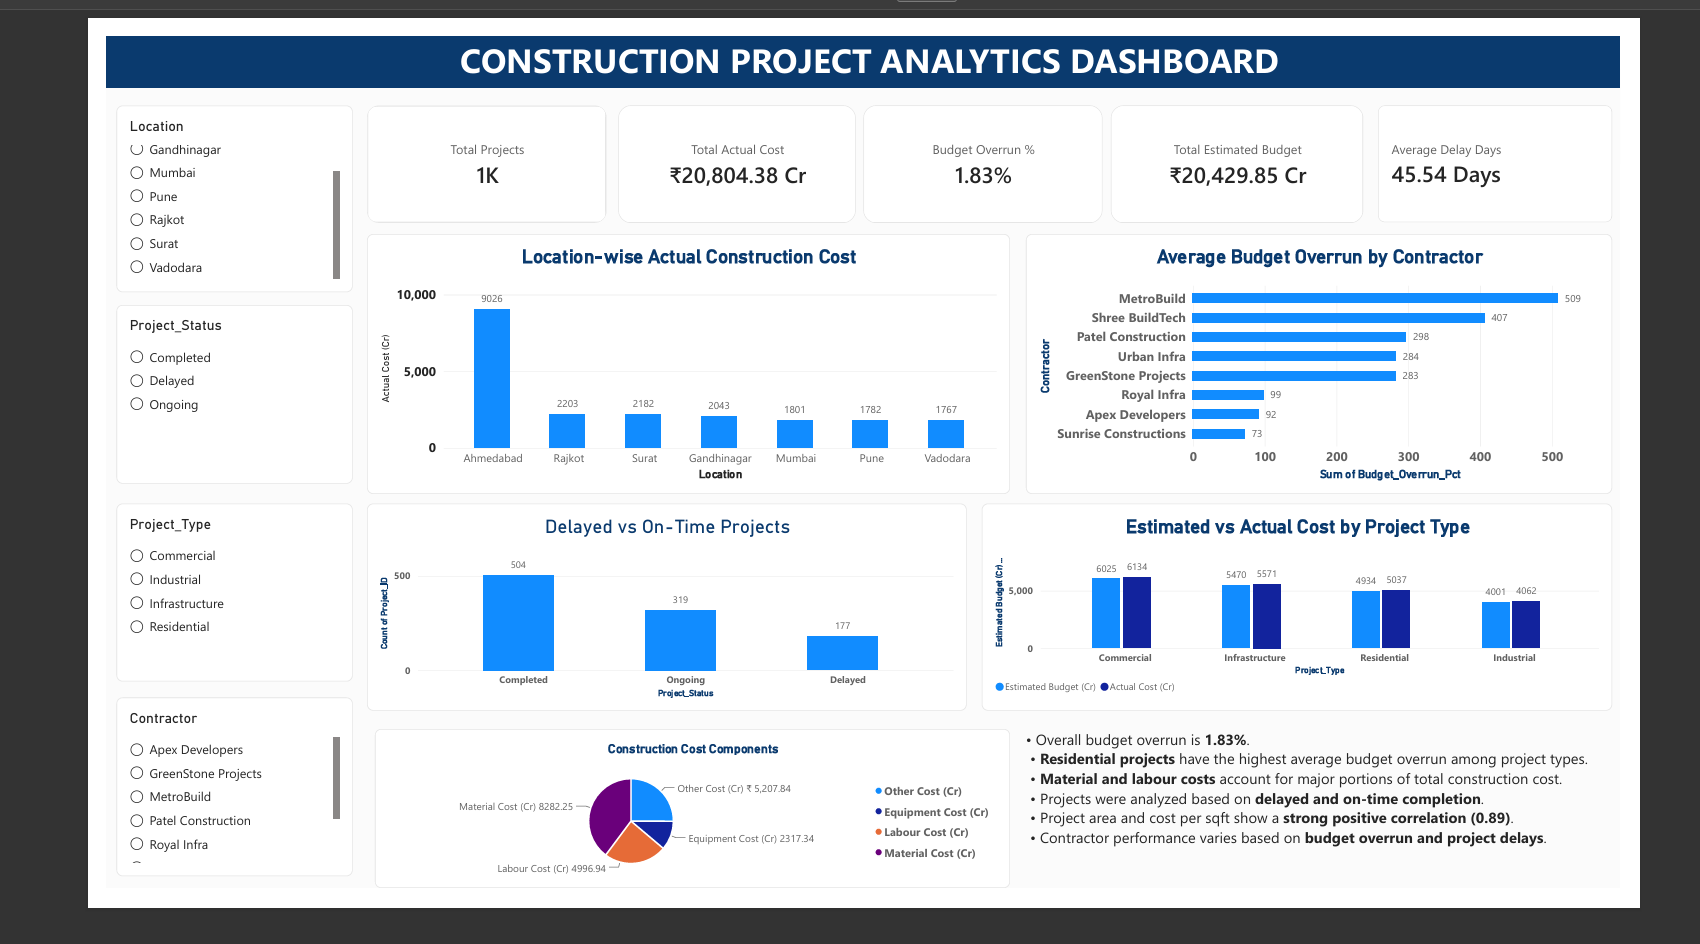

The dashboard page shown, as its layout file describes it:
{"tool":"powerbi","page":{"name":"Page 1","canvas":[1920,1080],"ordinal":0},"visuals":[{"type":"cardVisual","title":"Total Projects","fields":{"Data":["Construction_Project_Analytics.Total Projects"]},"box":[330,87.1,304.3,148.6],"z":0},{"type":"cardVisual","fields":{"Data":["Construction_Project_Analytics.Total Estimated Budget (Cr)"]},"box":[1274.3,87.1,320,148.6],"z":1000},{"type":"cardVisual","fields":{"Data":["Construction_Project_Analytics.Total Actual Cost"]},"box":[648.6,87.1,301.4,148.6],"z":2000},{"type":"cardVisual","fields":{"Data":["Construction_Project_Analytics.Budget Overrun %"]},"box":[960,87.1,302.9,148.6],"z":3000},{"type":"cardVisual","fields":{"Data":["Construction_Project_Analytics.Average Delay Days"]},"box":[1612.9,87.1,297.1,148.6],"z":4000},{"type":"clusteredColumnChart","title":"Location-wise Actual Construction Cost","fields":{"Category":["Construction_Project_Analytics.Location"],"Y":["Construction_Project_Analytics.Actual Cost (Cr)"]},"box":[330,250,815.7,330],"z":5000},{"type":"clusteredColumnChart","title":"Delayed vs On-Time Projects","fields":{"Category":["Construction_Project_Analytics.Project_Status"],"Y":["CountNonNull(Construction_Project_Analytics.Project_ID)"]},"box":[330,591.7,761.4,262.9],"z":6000},{"type":"clusteredColumnChart","title":"Estimated vs Actual Cost by Project Type","fields":{"Category":["Construction_Project_Analytics.Project_Type"],"Y":["Construction_Project_Analytics.Estimated Budget (Cr)","Construction_Project_Analytics.Actual Cost (Cr)"]},"box":[1110,591.7,800,262.9],"z":7000},{"type":"pieChart","title":"Construction Cost Components","fields":{"Y":["Construction_Project_Analytics.Other Cost (Cr)","Construction_Project_Analytics.Equipment Cost (Cr)","Construction_Project_Analytics.Labour Cost (Cr)","Construction_Project_Analytics.Material Cost (Cr)"]},"box":[781.7,878.3,620,201.8],"z":8000},{"type":"clusteredBarChart","title":"Average Budget Overrun by Contractor","fields":{"Category":["Construction_Project_Analytics.Contractor"],"Y":["Sum(Construction_Project_Analytics.Budget_Overrun_Pct)"]},"box":[1165.7,250,744.3,330],"z":9000},{"type":"listSlicer","fields":{"Values":["Construction_Project_Analytics.Location"]},"box":[11.7,86.7,300,237],"z":10000},{"type":"listSlicer","fields":{"Values":["Construction_Project_Analytics.Project_Type"]},"box":[11.7,591.7,300,226.7],"z":11000},{"type":"listSlicer","fields":{"Values":["Construction_Project_Analytics.Contractor"]},"box":[11.7,838.3,300,226.7],"z":12000},{"type":"listSlicer","fields":{"Values":["Construction_Project_Analytics.Project_Status"]},"box":[11.7,340,300,226.7],"z":13000},{"type":"textbox","box":[0,0,1920,65],"z":14000}]}

Visuals, with their boxes in screenshot pixels (x1, y1, x2, y2), scaled from the page's 1920x1080 canvas onto the 1700x944 screenshot:
"Total Projects" cardVisual: (292,76,562,206)
cardVisual - Construction_Project_Analytics.Total Estimated Budget (Cr): (1128,76,1412,206)
cardVisual - Construction_Project_Analytics.Total Actual Cost: (574,76,841,206)
cardVisual - Construction_Project_Analytics.Budget Overrun %: (850,76,1118,206)
cardVisual - Construction_Project_Analytics.Average Delay Days: (1428,76,1691,206)
"Location-wise Actual Construction Cost" clusteredColumnChart: (292,219,1014,507)
"Delayed vs On-Time Projects" clusteredColumnChart: (292,517,966,747)
"Estimated vs Actual Cost by Project Type" clusteredColumnChart: (983,517,1691,747)
"Construction Cost Components" pieChart: (692,768,1241,943)
"Average Budget Overrun by Contractor" clusteredBarChart: (1032,219,1691,507)
listSlicer - Construction_Project_Analytics.Location: (10,76,276,283)
listSlicer - Construction_Project_Analytics.Project_Type: (10,517,276,715)
listSlicer - Construction_Project_Analytics.Contractor: (10,733,276,931)
listSlicer - Construction_Project_Analytics.Project_Status: (10,297,276,495)
textbox: (0,0,1699,57)
